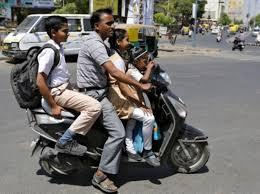nohelmet: (90, 8, 116, 40), (45, 15, 71, 44), (108, 28, 131, 55), (129, 46, 150, 72)
